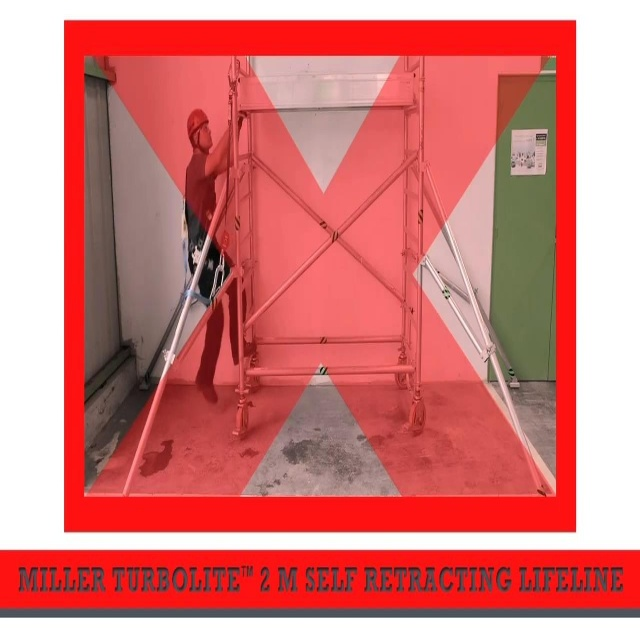Arnes_seguridad: (184, 138, 221, 293)
